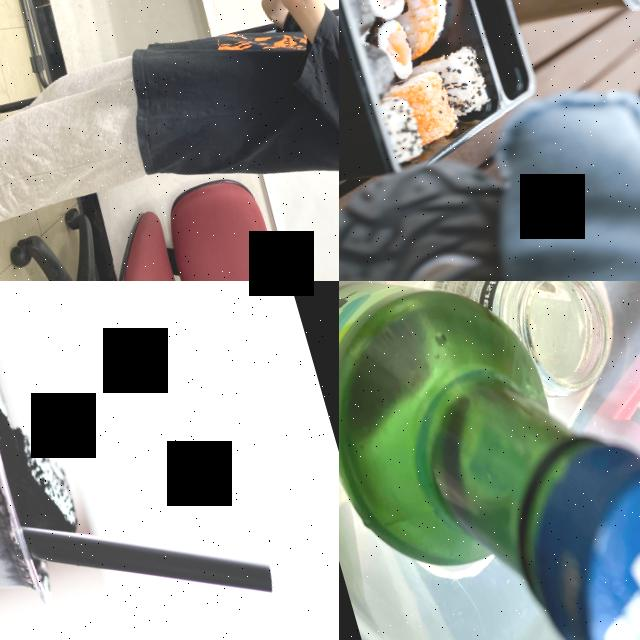cup: (498, 0, 640, 42)
